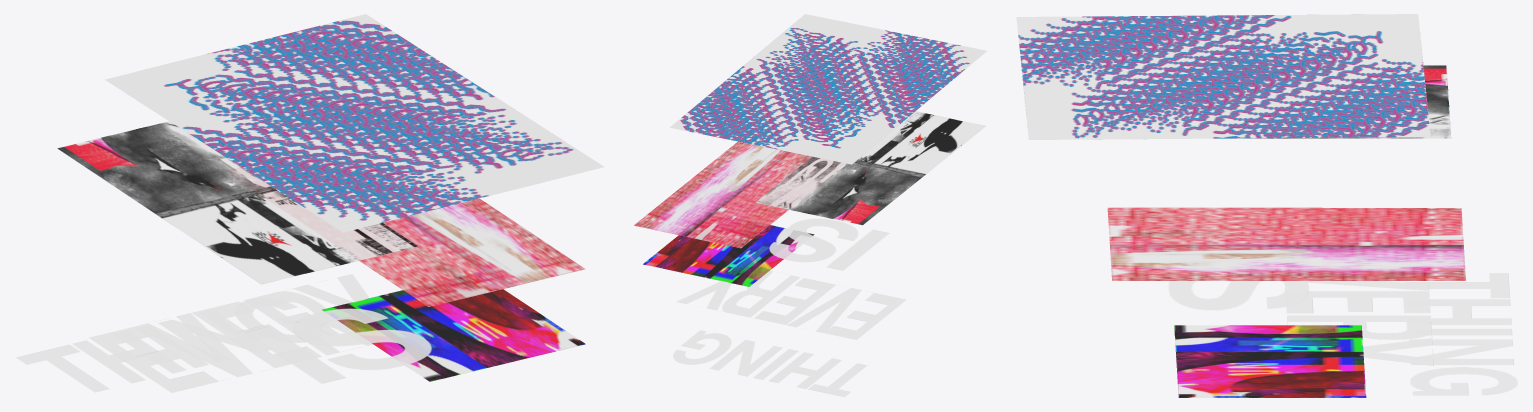
Rendered from kvasova  web fin.obj.
The picture shows the model from 3 angles, left to right: view 1: azimuth 30°, elevation 25°; view 2: azimuth 150°, elevation 25°; view 3: azimuth 270°, elevation 25°; orthographic projection. The views are drawn at different scales.
Visible parts, largest first — view 1: Grid.001_Grid.003, Grid.007_Grid.010, Grid.003_Grid.009, Grid.006, Grid.004_Grid.002, Grid.002_Grid.001, Grid.005_Grid.004; view 2: Grid.001_Grid.003, Grid.007_Grid.010, Grid.003_Grid.009, Grid.004_Grid.002, Grid.006, Grid.005_Grid.004, Grid.002_Grid.001; view 3: Grid.001_Grid.003, Grid.003_Grid.009, Grid.006, Grid.005_Grid.004, Grid.004_Grid.002, Grid.002_Grid.001, Grid.007_Grid.010.
Part boxes in pixels (<box>): Grid.001_Grid.003: <box>105,14,604,232</box>; Grid.007_Grid.010: <box>57,121,418,284</box>; Grid.003_Grid.009: <box>359,198,585,306</box>; Grid.006: <box>322,289,585,381</box>; Grid.004_Grid.002: <box>89,274,372,392</box>; Grid.002_Grid.001: <box>245,308,431,383</box>; Grid.005_Grid.004: <box>16,301,338,392</box>; Grid.001_Grid.003: <box>670,14,986,164</box>; Grid.007_Grid.010: <box>755,111,985,225</box>; Grid.003_Grid.009: <box>634,141,811,248</box>; Grid.004_Grid.002: <box>676,271,906,339</box>; Grid.006: <box>643,225,814,286</box>; Grid.005_Grid.004: <box>673,330,866,396</box>; Grid.002_Grid.001: <box>769,218,889,270</box>; Grid.001_Grid.003: <box>1016,14,1430,139</box>; Grid.003_Grid.009: <box>1107,207,1465,280</box>; Grid.006: <box>1174,325,1366,397</box>; Grid.005_Grid.004: <box>1406,273,1517,395</box>; Grid.004_Grid.002: <box>1285,281,1433,365</box>; Grid.002_Grid.001: <box>1168,281,1309,309</box>; Grid.007_Grid.010: <box>1237,65,1451,138</box>.
Bounding box in the file's own units: 4.11 × 3.18 × 5.07.
8 materials, 8 textured.
